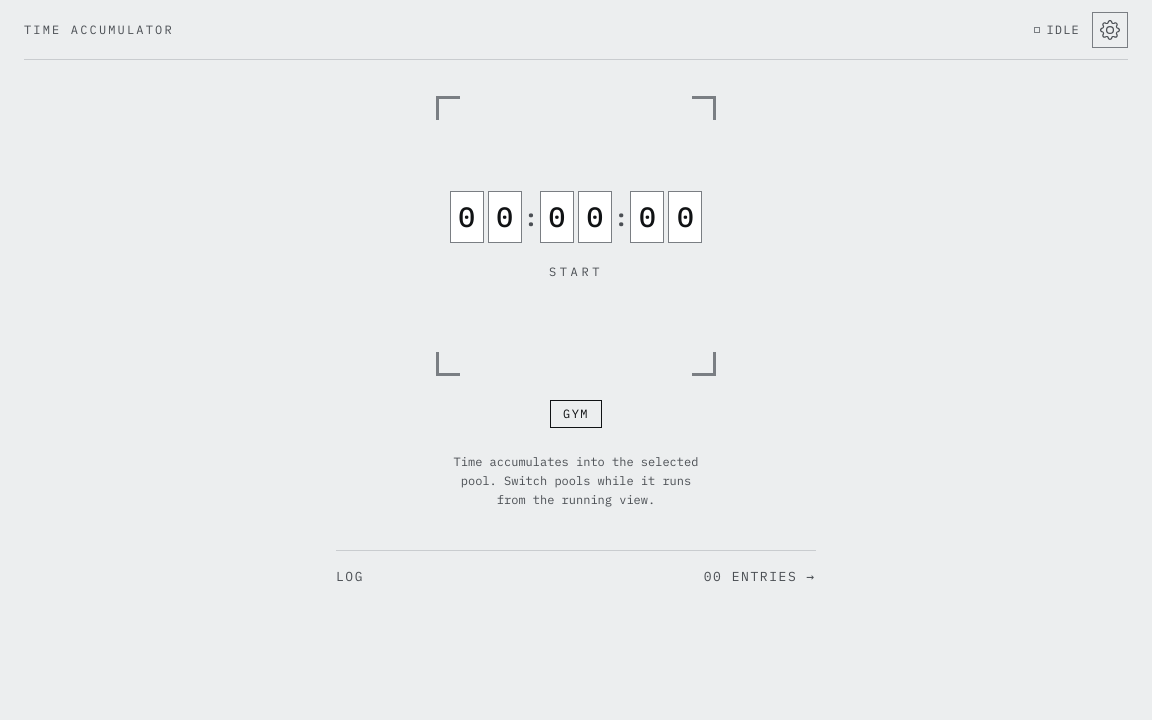
Test: App onboarding gate › header: the gear toggles Pools open and closed, back to where you were
Click the button with class "app-header__pools" at (1110,30), box [1092,12,1128,48]
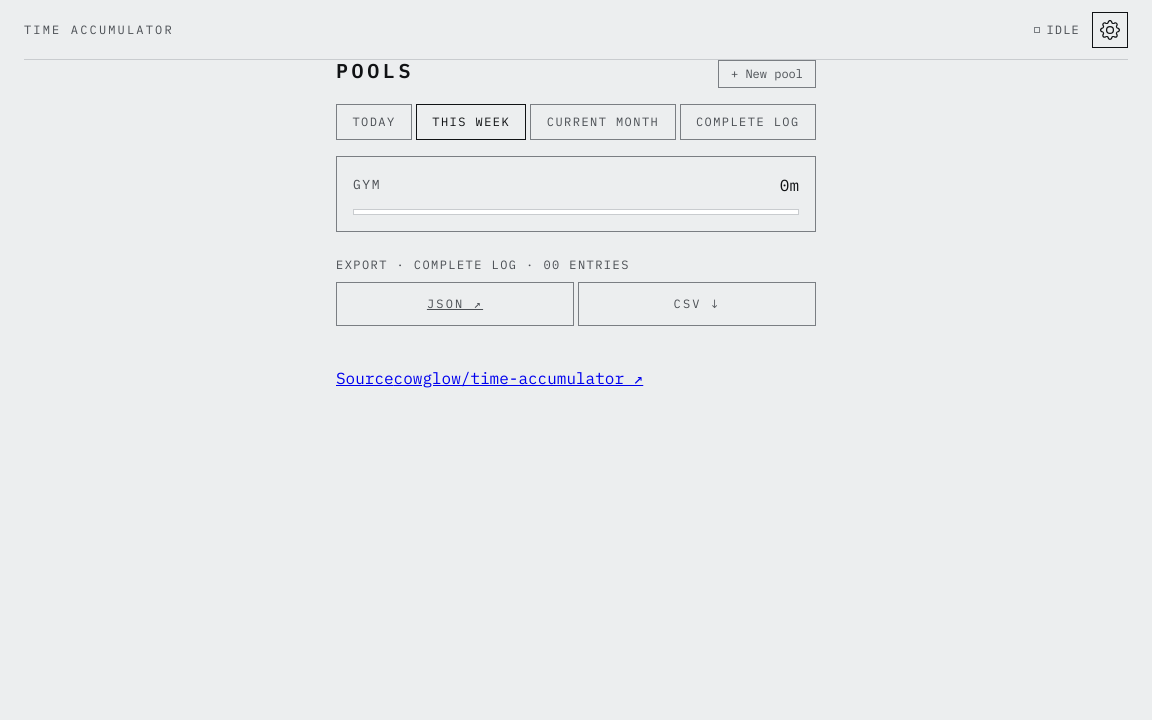
Check: the element that starts with "Pools" is shown, box [336,56,816,390]
Click the button with class "app-header__pools" at (1110,30), box [1092,12,1128,48]
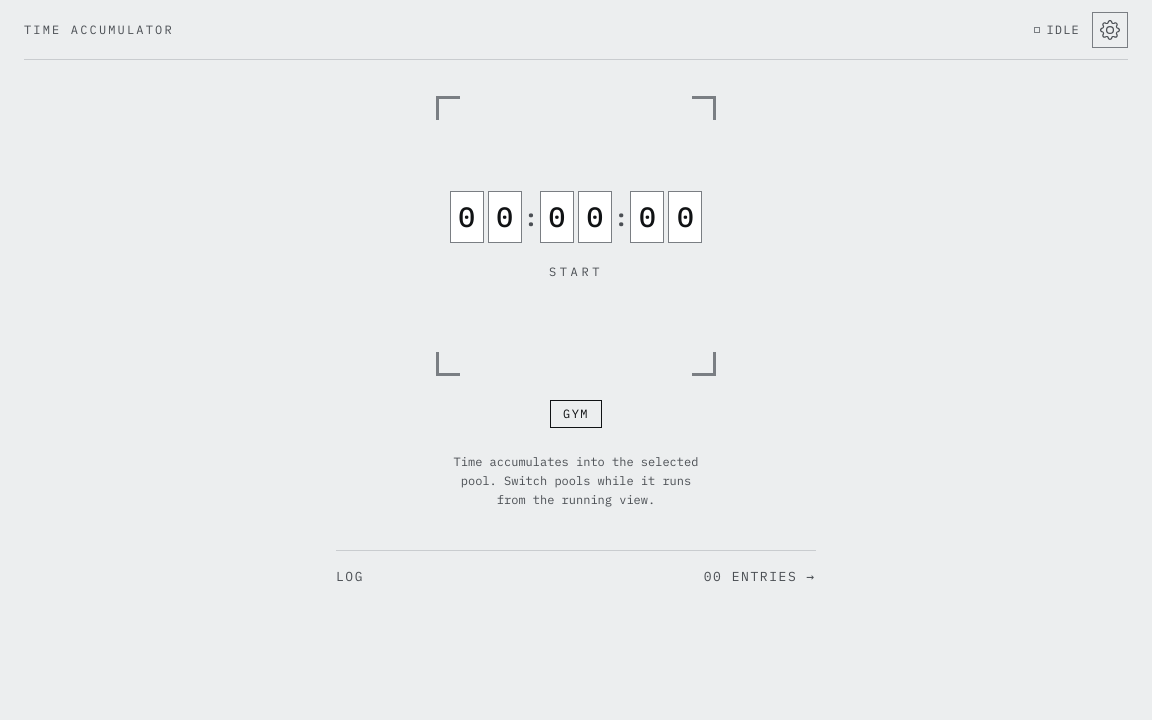
Check: the button with class "dial" is shown, box [336,96,816,376]
# from Activity, closing Pools returns to Activity rather than Home
Click the button with class "home-view__log" at (769,576), box [336,550,816,590]
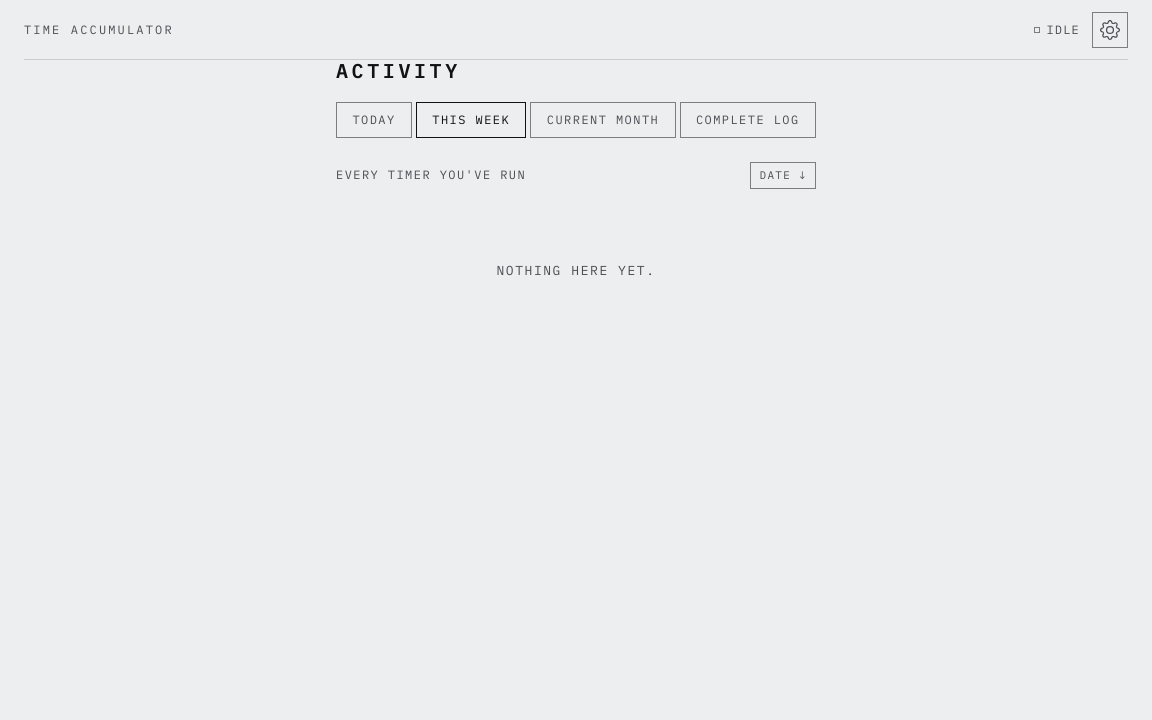
Check: the element with class "activity-view" is shown, box [336,57,816,278]
Click the button with class "app-header__pools" at (1110,30), box [1092,12,1128,48]
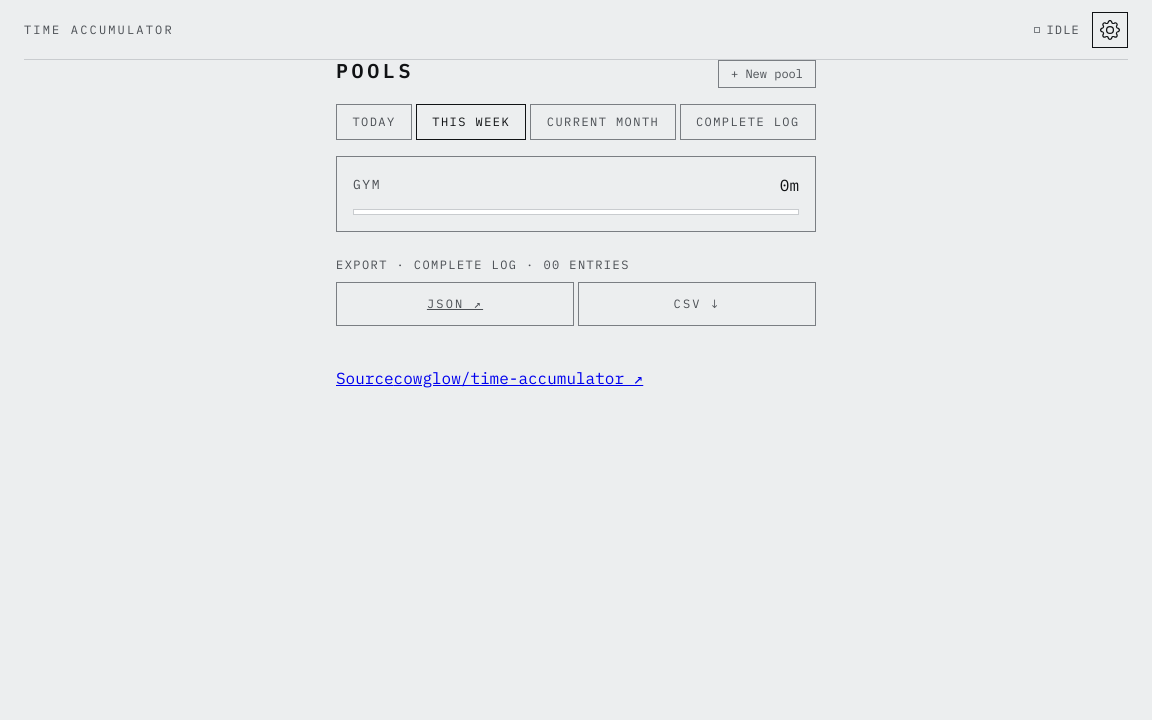
Check: the element that starts with "Pools" is shown, box [336,56,816,390]
Click the button with class "app-header__pools" at (1110,30), box [1092,12,1128,48]
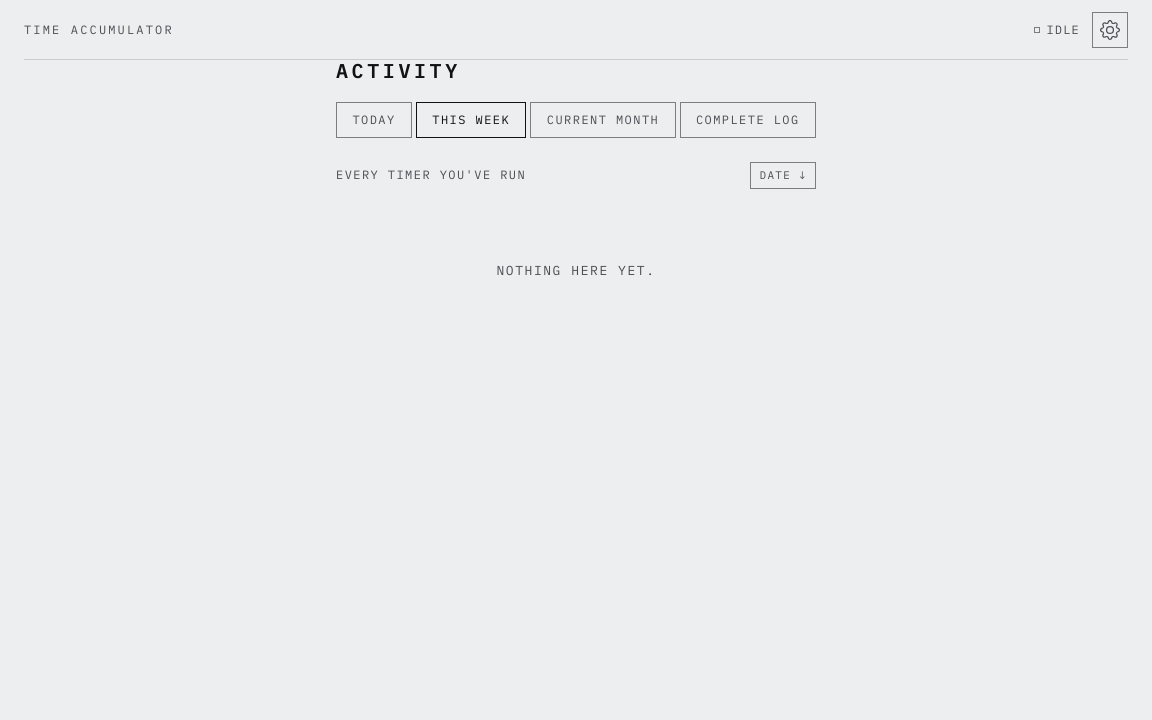
Check: the element with class "activity-view" is shown, box [336,57,816,278]
